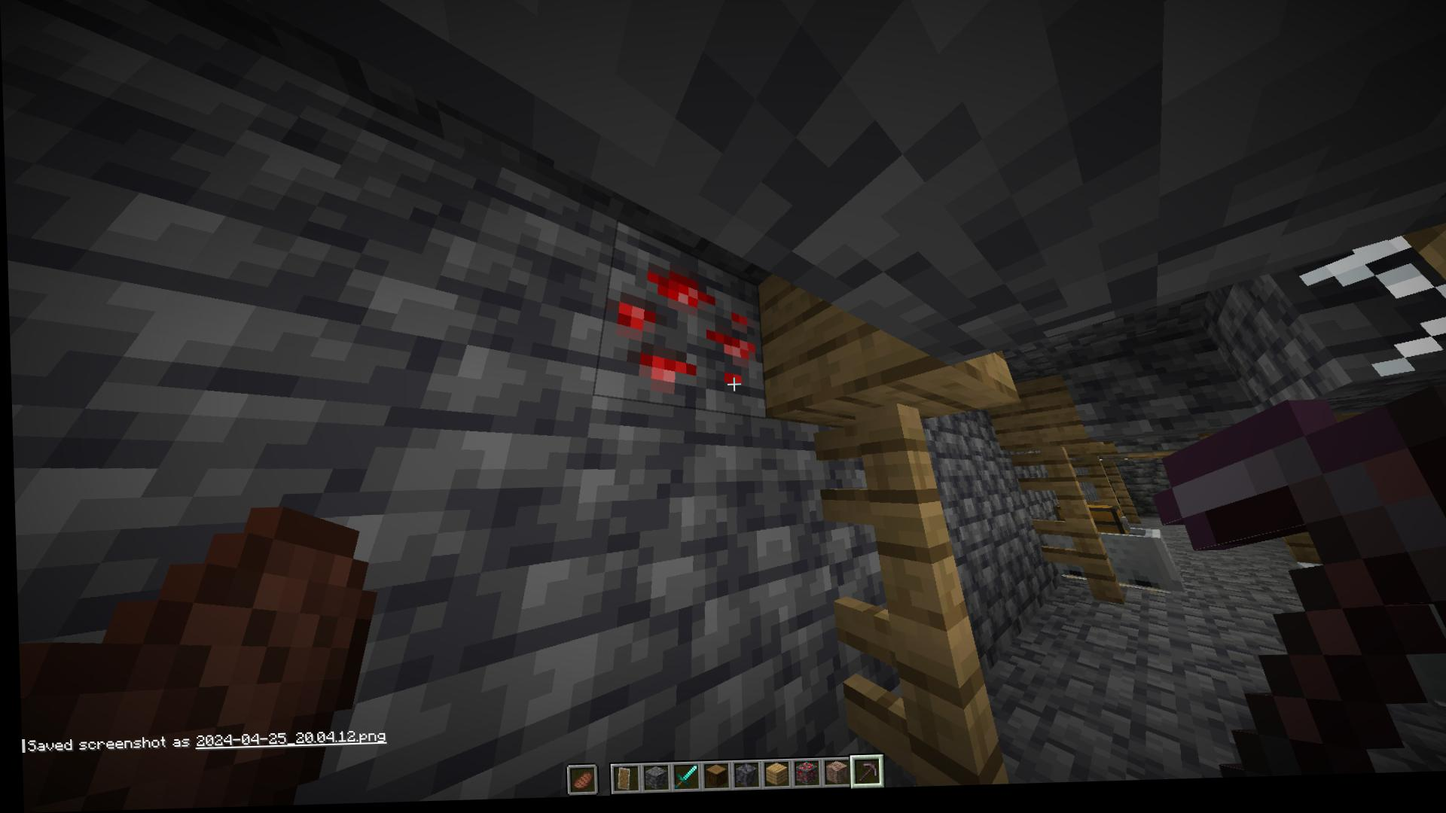redstone ore: (608, 251, 762, 416)
